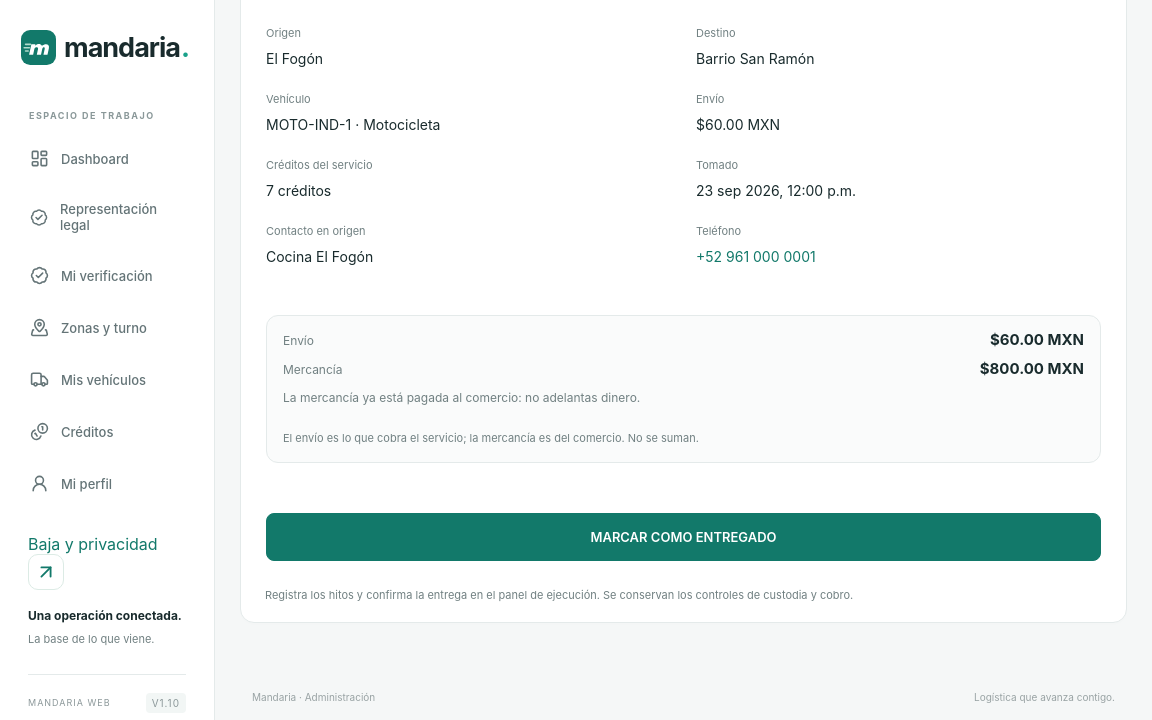
Test: independent driver completion › offers the completion on my service and confirms it with a dialog
(page scrolled)
Click the button "MARCAR COMO ENTREGADO".
click(684, 537)  # box left=266, top=513, right=1101, bottom=561
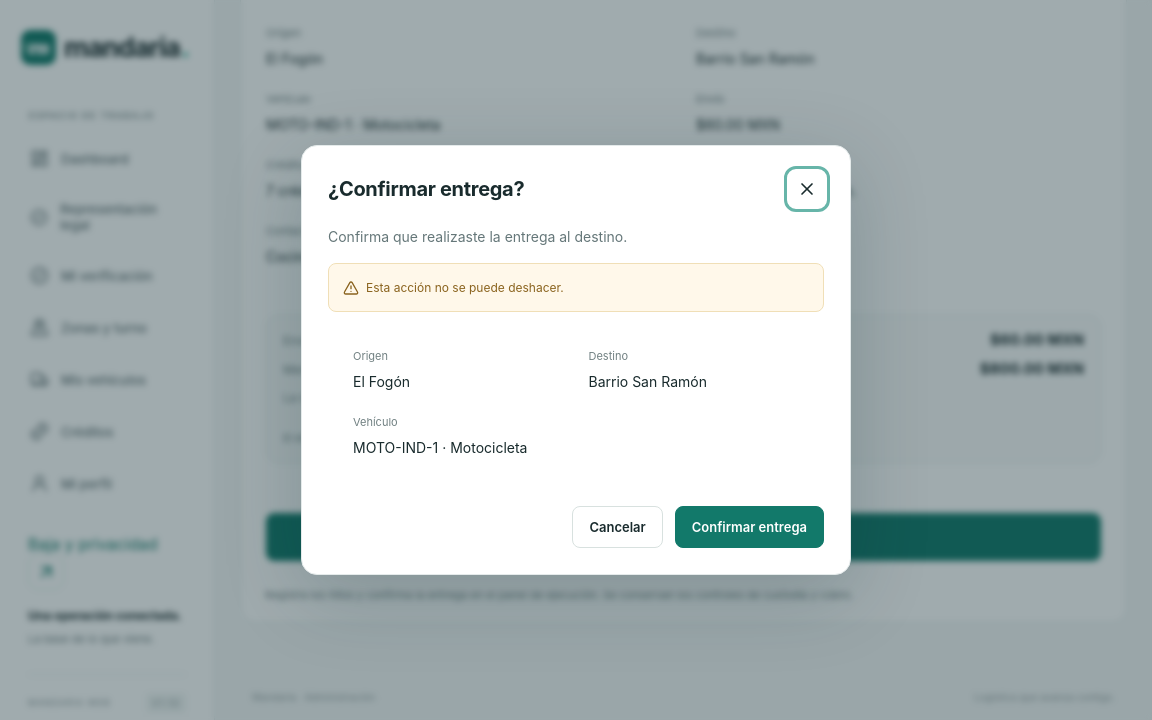
Check: the dialog "¿Confirmar entrega?" is shown, box left=301, top=145, right=851, bottom=575
Check: the text "Confirma que realizaste la entrega al destino." is shown, box left=328, top=228, right=627, bottom=245
Check: the element showing "Esta acción no se puede deshacer." is shown, box left=328, top=263, right=824, bottom=312
Click the button "Confirmar entrega".
click(749, 527)  # box left=675, top=506, right=824, bottom=548
(page scrolled)
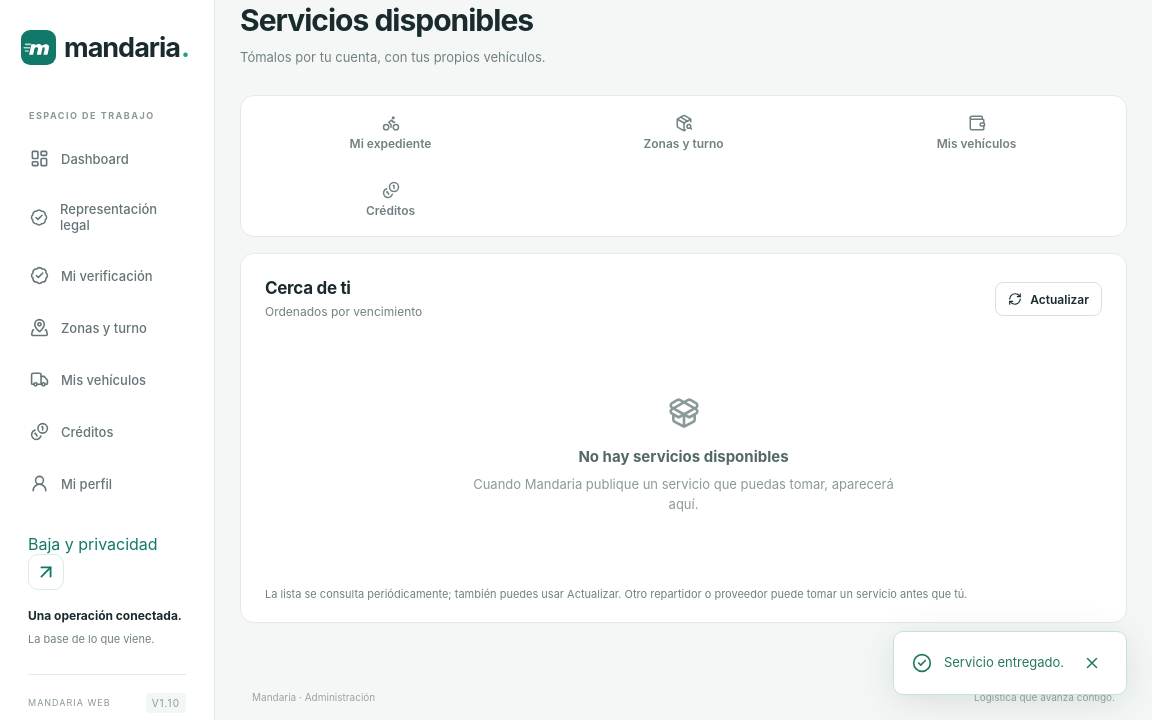
Check: the heading "Servicios disponibles" is shown, box left=240, top=2, right=546, bottom=38
